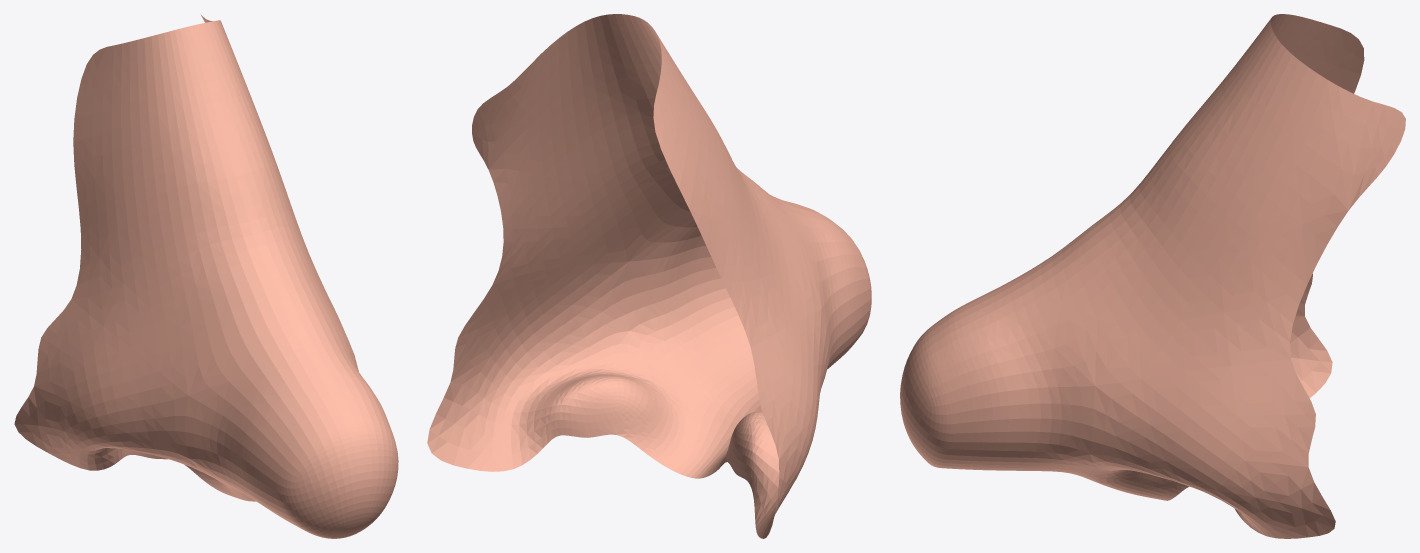
Rendered from nose5.obj.
3 views of the same model, side by side, from view 1: azimuth 30°, elevation 25°; view 2: azimuth 150°, elevation 25°; view 3: azimuth 270°, elevation 25° (orthographic). The views are drawn at different scales.
Visible parts, largest first — view 1: nose_start; view 2: nose_start; view 3: nose_start.
Part boxes in pixels (x1,y1,x2,y2): nose_start: [14, 15, 398, 538]; nose_start: [427, 14, 871, 538]; nose_start: [900, 14, 1405, 538].
Size of the model in its own units: 0.0385 by 0.0537 by 0.0517.
